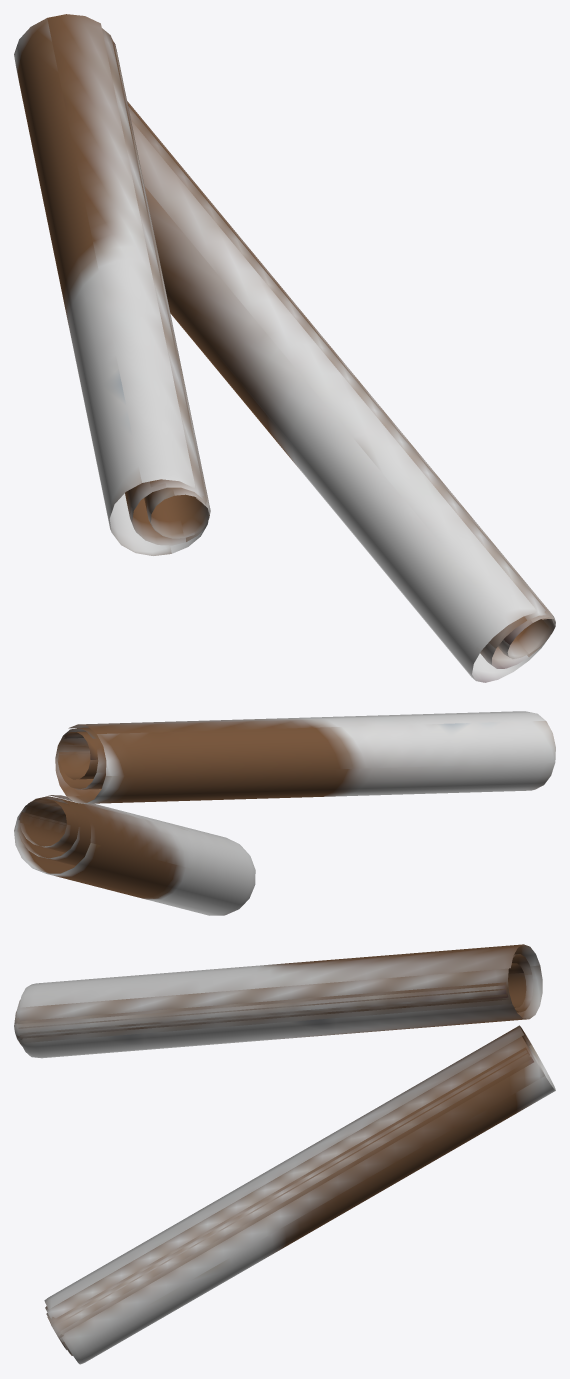
File: RolledUpPapers.obj
3 views of the same model, one above another, from view 1: azimuth 30°, elevation 25°; view 2: azimuth 150°, elevation 25°; view 3: azimuth 270°, elevation 25° (orthographic). The views are drawn at different scales.
Parts seen in each view (by area): view 1: polySurface146.050, polySurface146.070; view 2: polySurface146.070, polySurface146.050; view 3: polySurface146.050, polySurface146.070.
Part boxes in pixels (x1,y1,x2,y2): polySurface146.050: [127, 101, 555, 682]; polySurface146.070: [14, 14, 210, 555]; polySurface146.070: [55, 711, 555, 803]; polySurface146.050: [14, 795, 255, 915]; polySurface146.050: [44, 1025, 555, 1364]; polySurface146.070: [14, 944, 542, 1058].
Size of the model in its own units: 1.54 by 1.57 by 2.12.
Materials: 1 (1 with a texture image).
